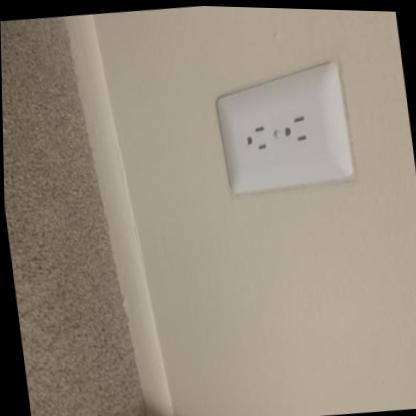OUTLET: (211, 56, 353, 200)
